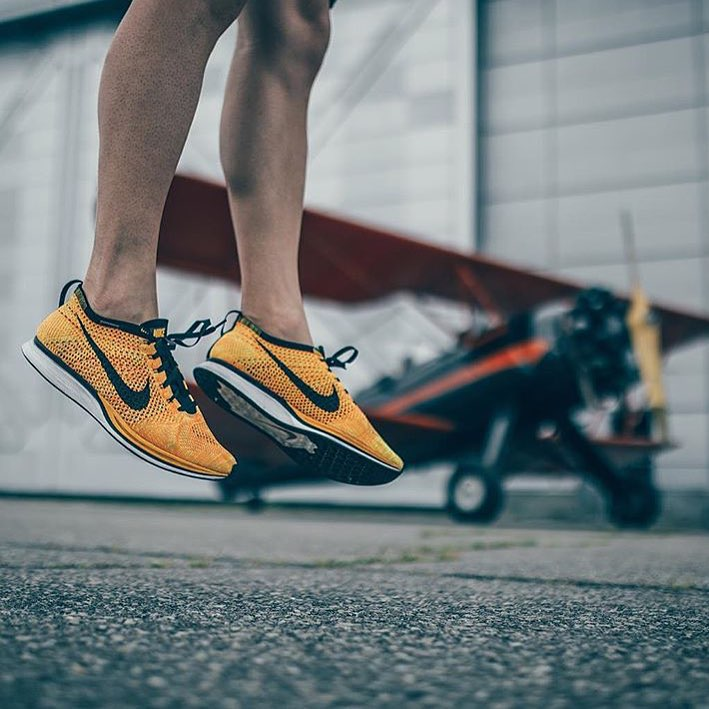sneaker: (8, 261, 255, 496), (180, 294, 424, 497)
